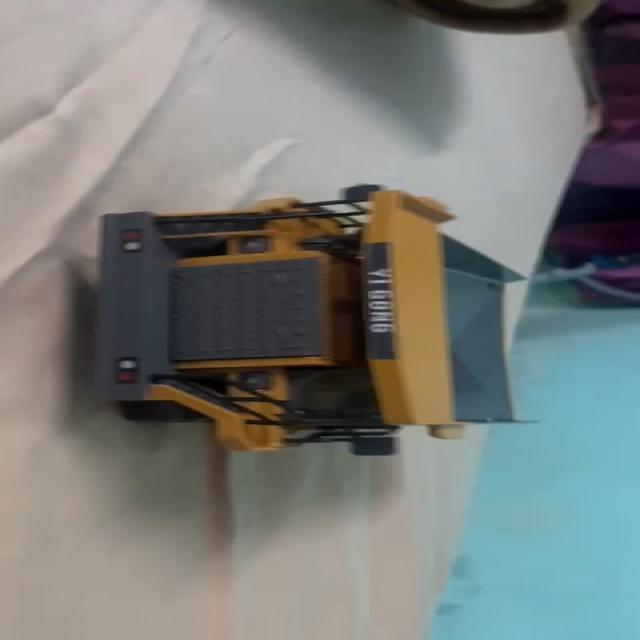dump_truck: (56, 186, 544, 467)
